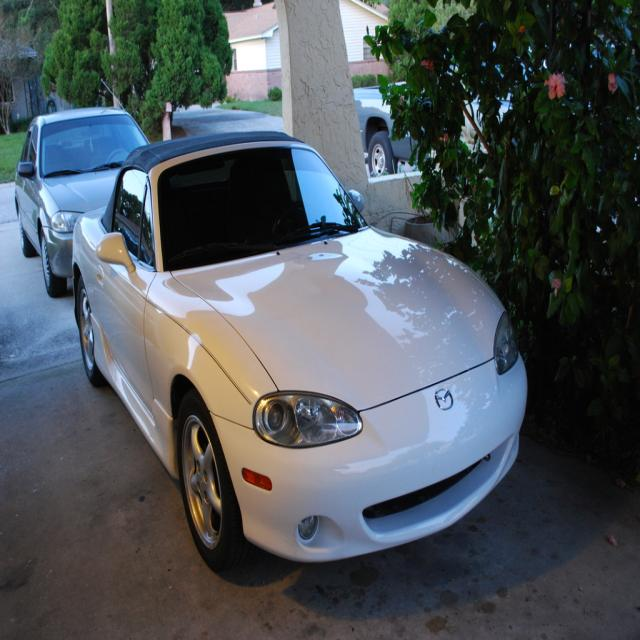car: (71, 131, 526, 576)
